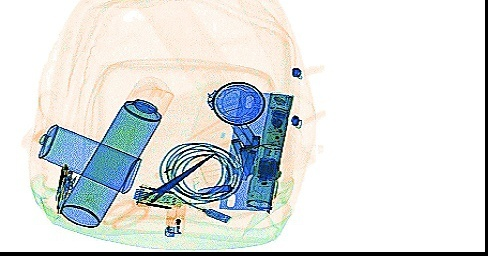pressure: (58, 74, 174, 228)
scissors: (98, 152, 214, 231)
zippooil: (34, 122, 142, 195)
